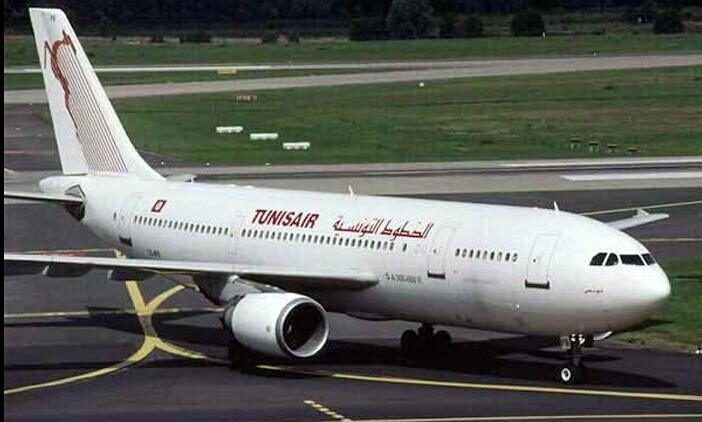airplane: (19, 6, 668, 374)
